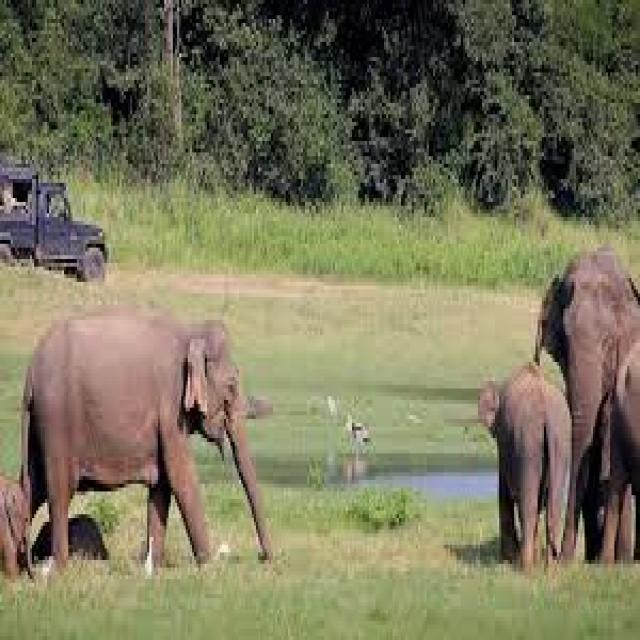Elephant: (22, 298, 270, 569), (542, 245, 640, 567), (480, 367, 572, 569), (0, 465, 34, 589)
